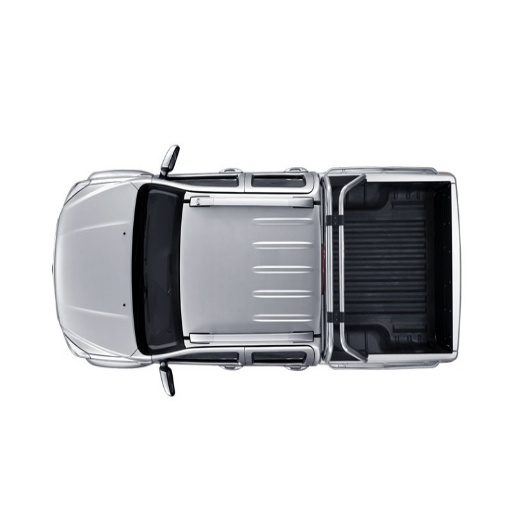tailgate: (96, 281, 129, 345)
trunk: (182, 210, 325, 335), (62, 258, 120, 344)
